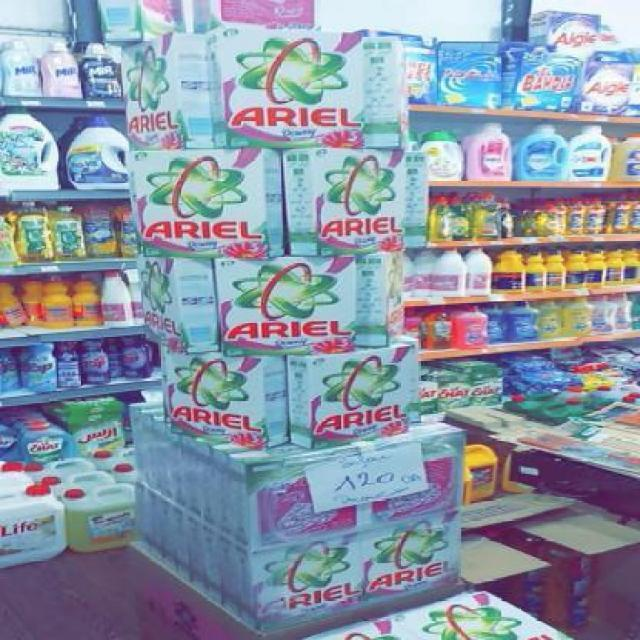Detergent: (212, 28, 369, 151), (158, 344, 316, 456), (137, 152, 286, 256), (285, 138, 414, 258), (213, 253, 359, 351), (289, 343, 420, 445), (362, 519, 468, 602), (255, 543, 367, 621)
